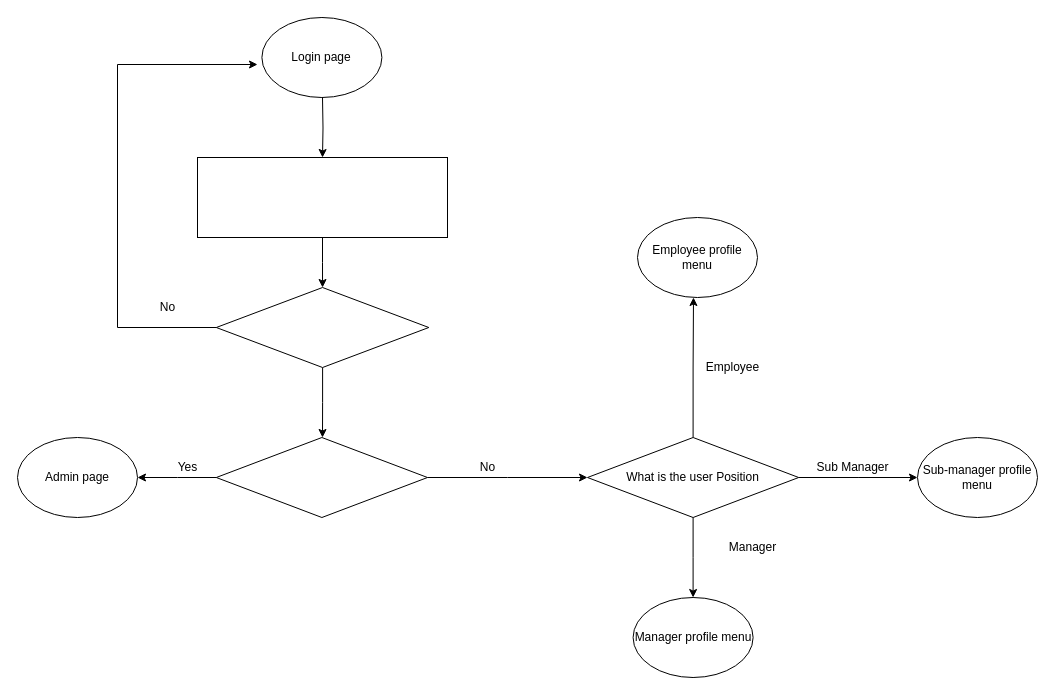
Image size: 1055x695. Some labels were removed from this diagram. The shapes that lost their labels are listed below. From the top down, each one's box as (x1, y1, x2, y2) in pixels, then its label:
(196, 156, 448, 238): User logs in to the website if registered
(215, 286, 429, 368): If the login credentials is correct
(215, 436, 428, 518): Is the user an admin
